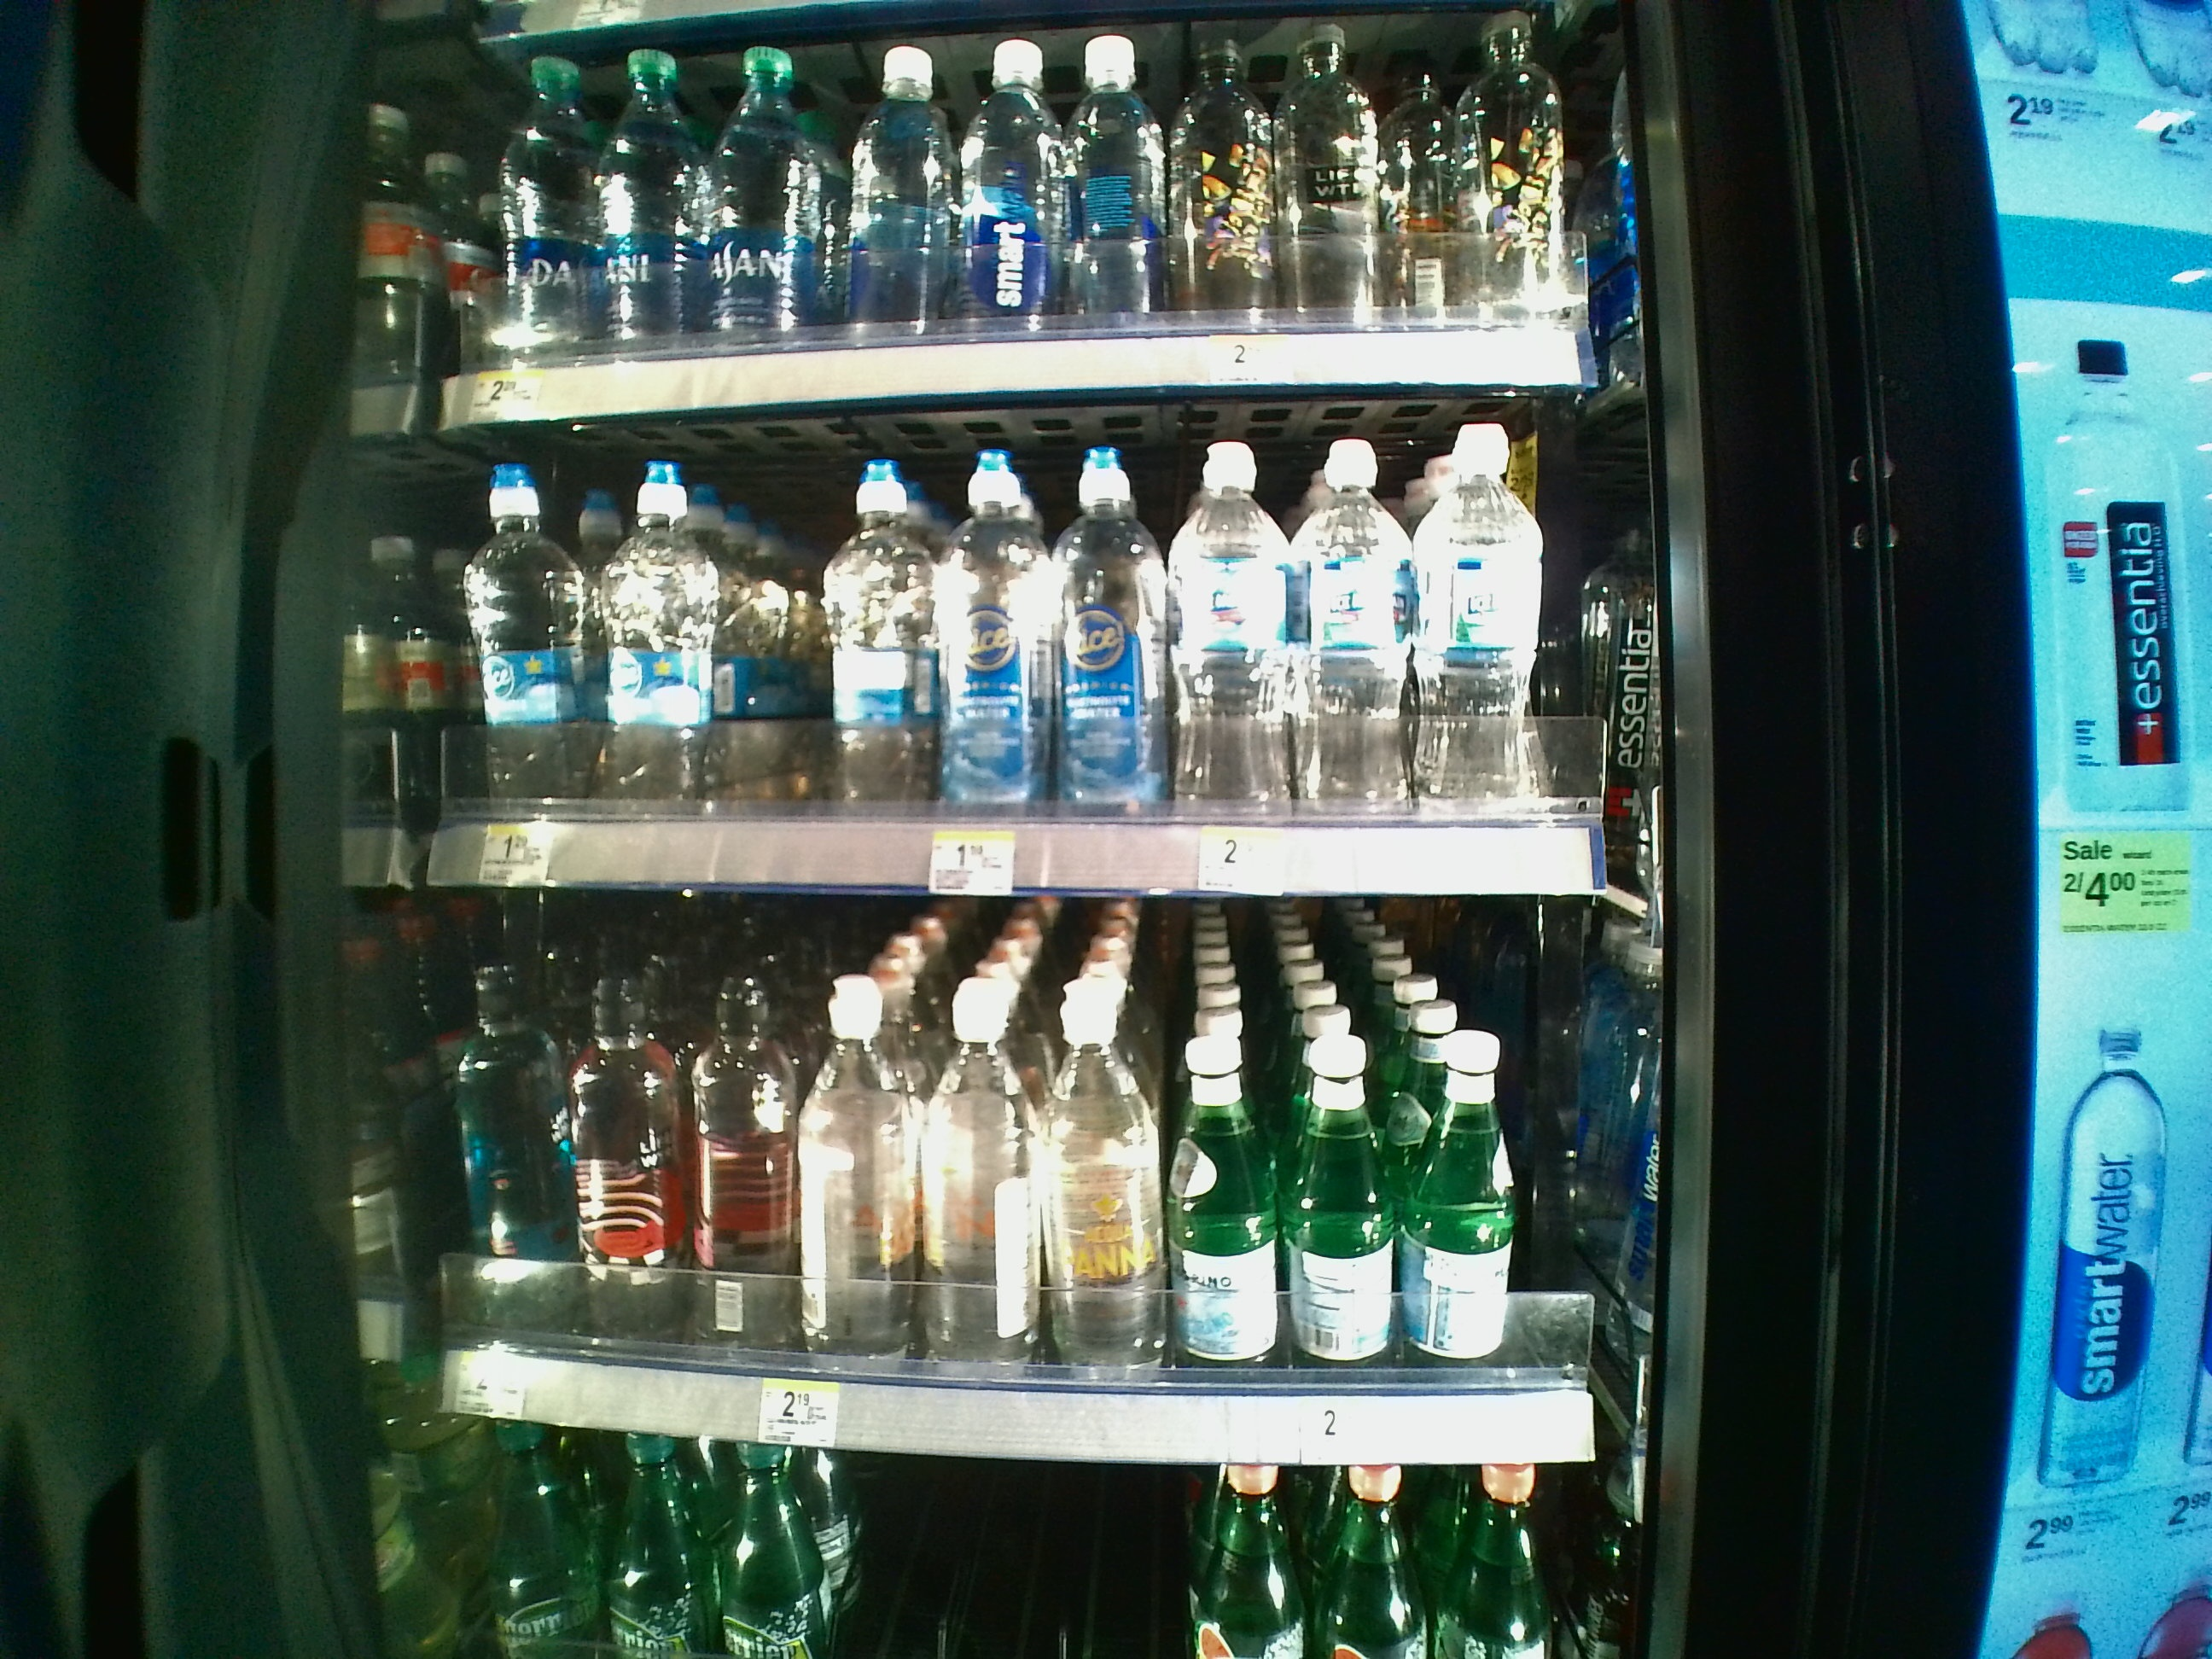Shelf: (420, 899, 1611, 1471), (420, 427, 1601, 899)
